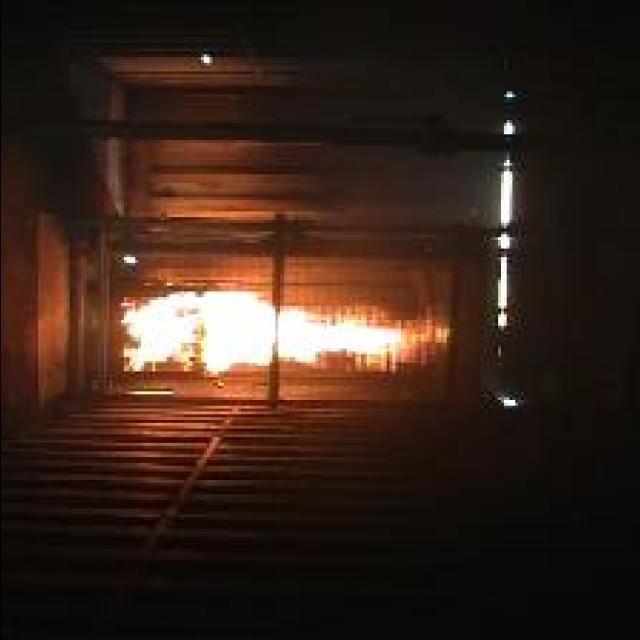Fire: (120, 292, 452, 374)
